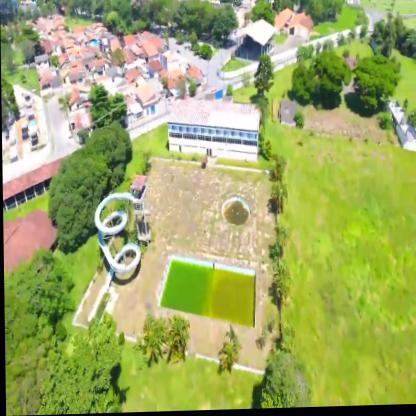agua: (169, 264, 252, 330), (221, 200, 248, 230)
